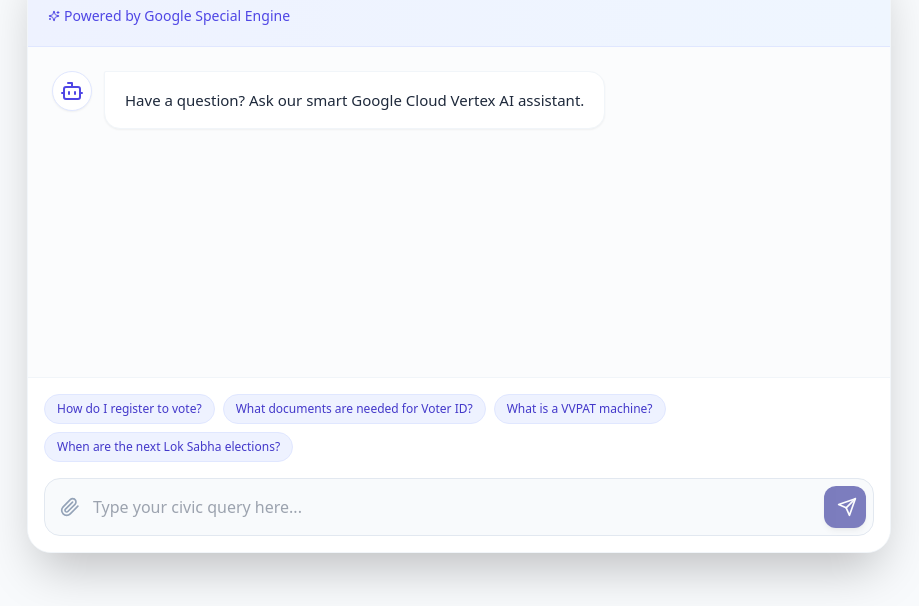
Test: Assistant Component › sends a query and displays the response
The width and height of the screenshot is (919, 606).
(page scrolled)
In the field with placeholder "Type your civic query here...": (459, 507) top-left (44, 478), bottom-right (874, 536), type "How do I register?"
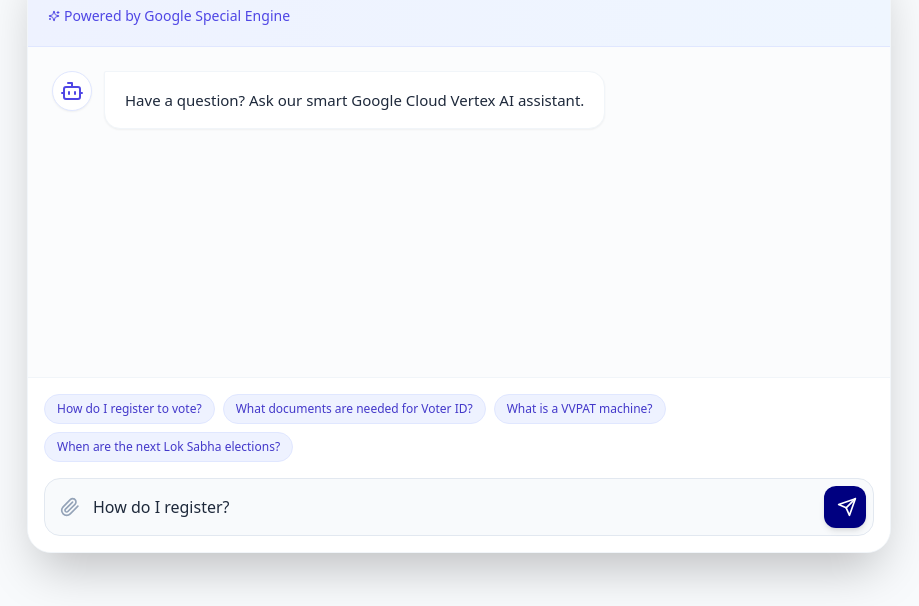
Click the button named "Send message": (845, 507) top-left (824, 486), bottom-right (866, 528)
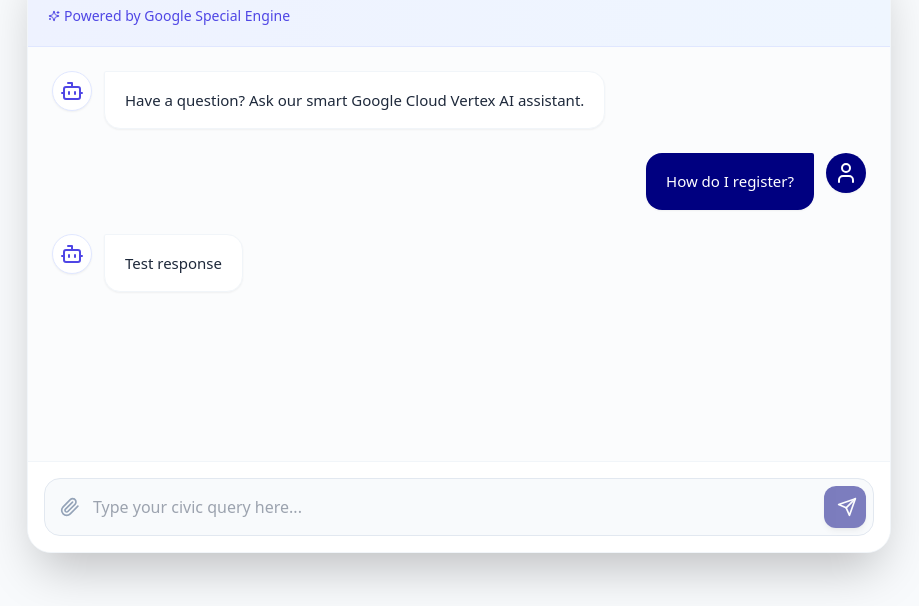
Result: the text "How do I register?" is shown at top-left (666, 169), bottom-right (794, 194)
Result: the text "Test response" is shown at top-left (125, 251), bottom-right (222, 275)
